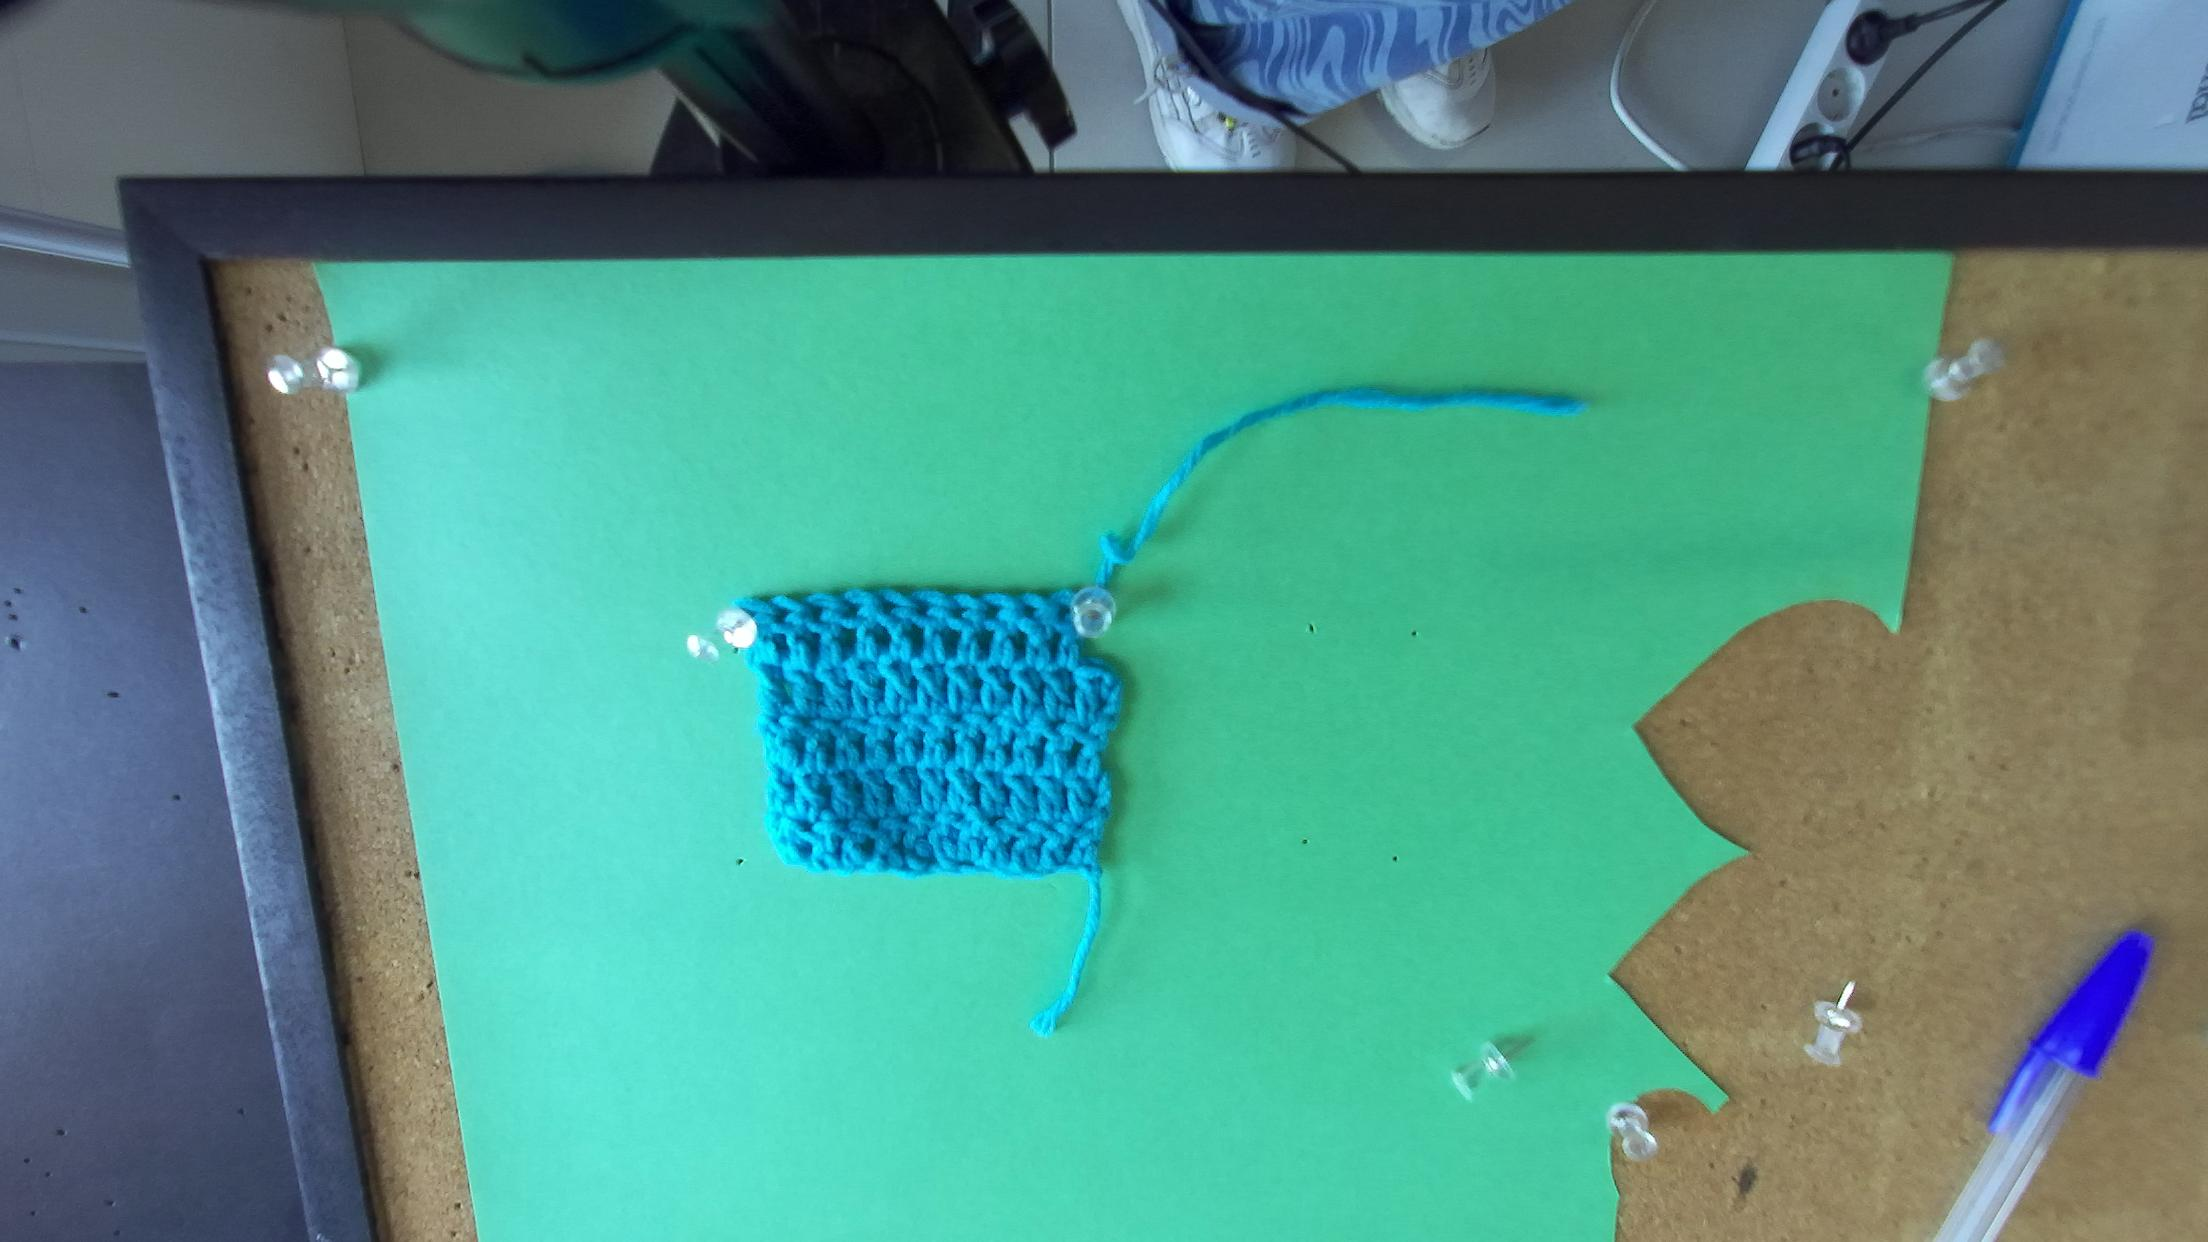hole: (983, 602, 1004, 620), (910, 601, 934, 616), (772, 605, 792, 623), (880, 597, 899, 616), (1018, 604, 1037, 622), (843, 601, 863, 617), (951, 602, 971, 619), (1059, 602, 1074, 620), (808, 605, 823, 622)
swatch: (693, 588, 1130, 883)
